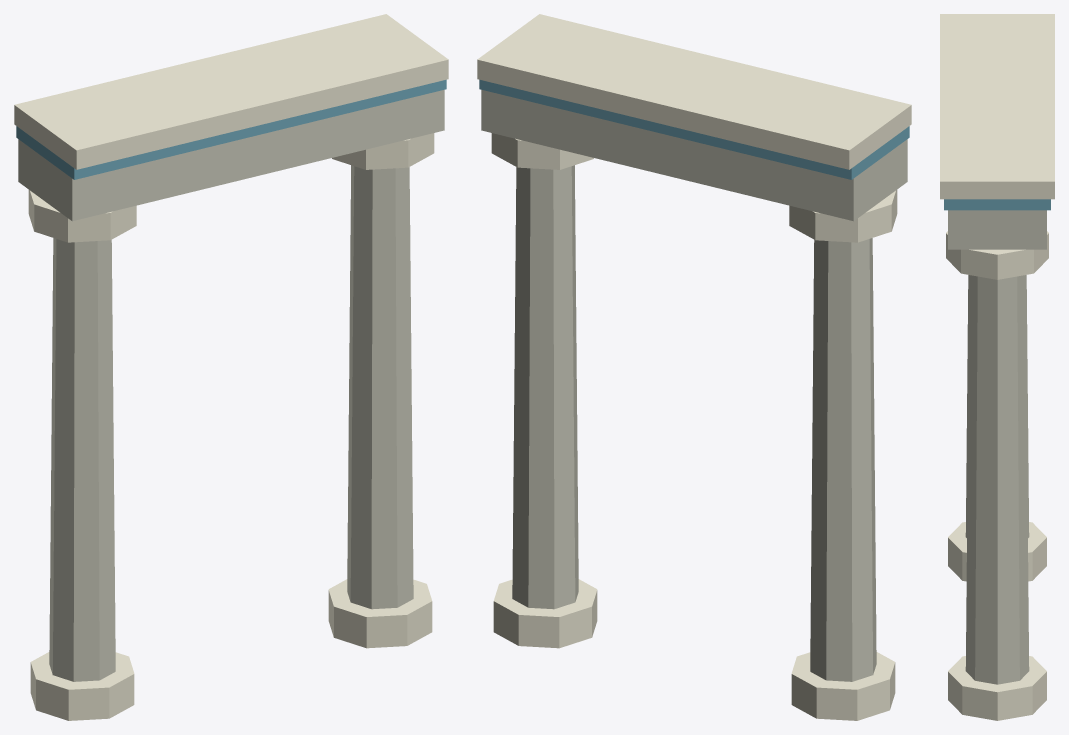
Rendered from tidal-colonnade-module__262.glb.
3 views of the same model, side by side, from view 1: azimuth 30°, elevation 25°; view 2: azimuth 150°, elevation 25°; view 3: azimuth 270°, elevation 25° (orthographic). The views are drawn at different scales.
Visible parts, largest first — view 1: tidal-observatory-colonnade; view 2: tidal-observatory-colonnade; view 3: tidal-observatory-colonnade.
Part boxes in pixels (x1=…): tidal-observatory-colonnade: x1=14, y1=14, x2=448, y2=720; tidal-observatory-colonnade: x1=477, y1=14, x2=911, y2=720; tidal-observatory-colonnade: x1=940, y1=14, x2=1054, y2=720.
Size of the model in its own units: 2.12 by 2.98 by 0.58.
